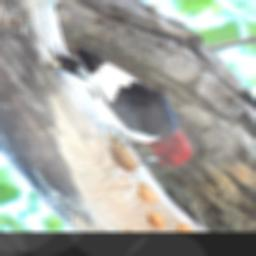Woodpecker: (45, 43, 189, 168)
